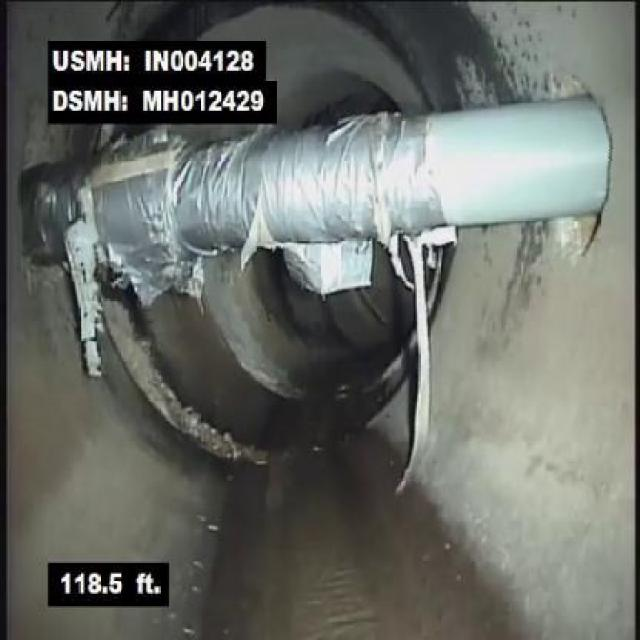Joint offset: (102, 318, 220, 472)
Utility intrusion: (24, 89, 614, 268)
